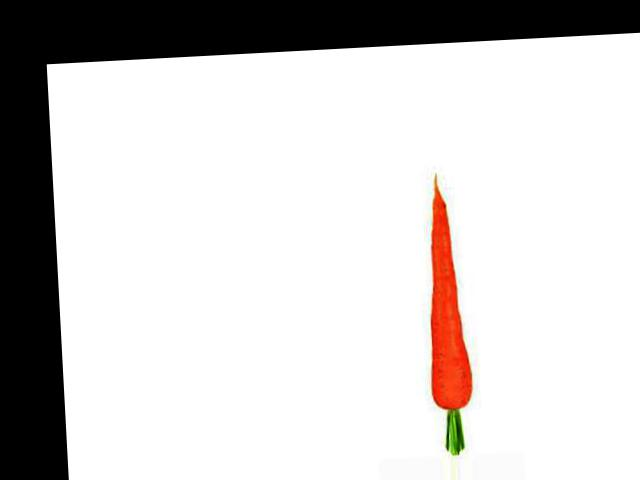carrot: (411, 174, 476, 414)
